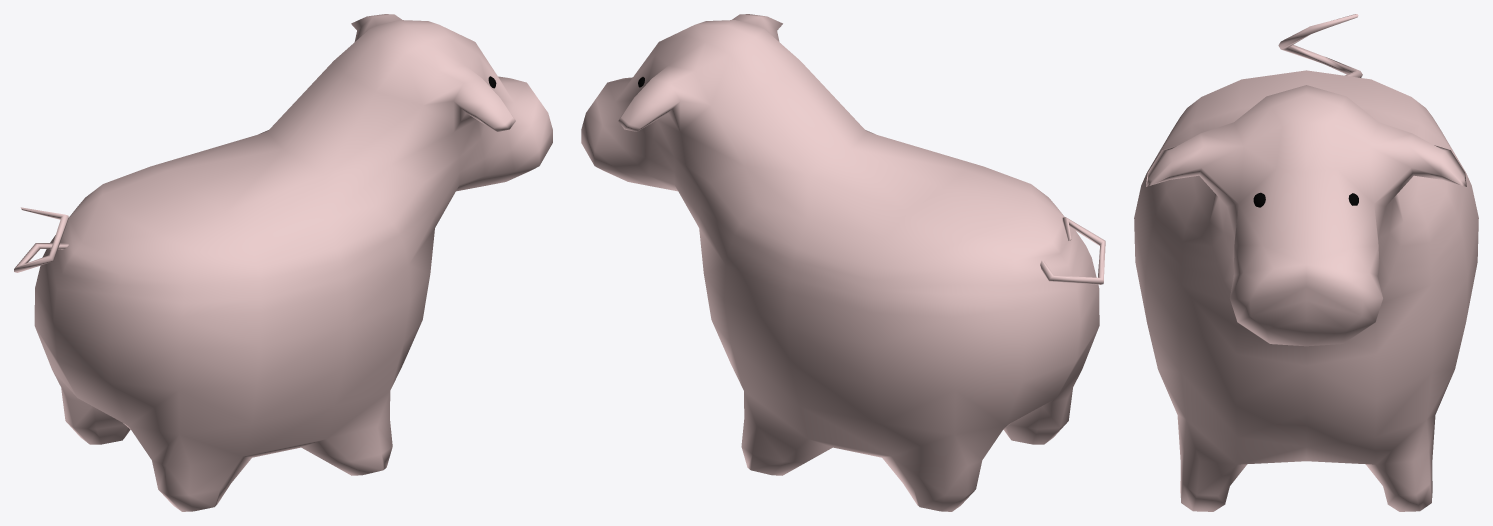
Rendered from pig.fbx.
3 views of the same model, side by side, from view 1: azimuth 30°, elevation 25°; view 2: azimuth 150°, elevation 25°; view 3: azimuth 270°, elevation 25° (orthographic). The views are drawn at different scales.
Parts seen in each view (by area): view 1: polySurface119; view 2: polySurface119; view 3: polySurface119.
Part boxes in pixels (bbox=[...]): polySurface119: bbox=[14, 14, 552, 511]; polySurface119: bbox=[581, 14, 1105, 511]; polySurface119: bbox=[1134, 14, 1478, 511].
Bounding box in the file's own units: 23.76 × 17.36 × 11.88.
